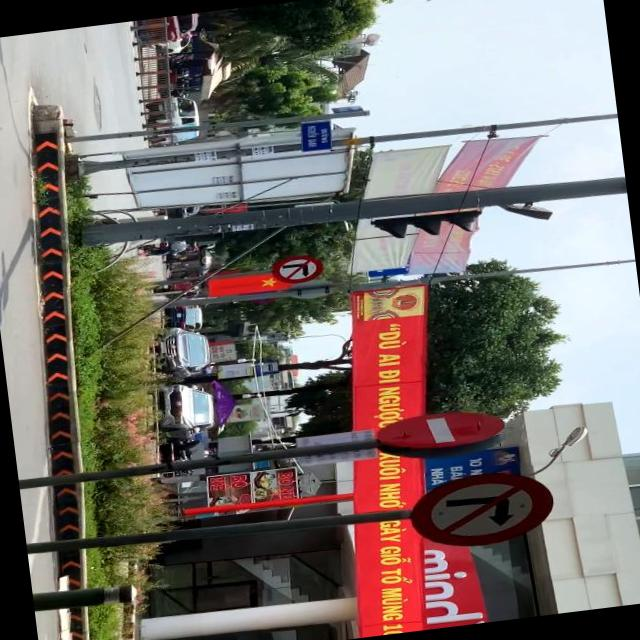P-102: (372, 406, 502, 451)
P-123b: (408, 466, 559, 552), (268, 253, 327, 288)
